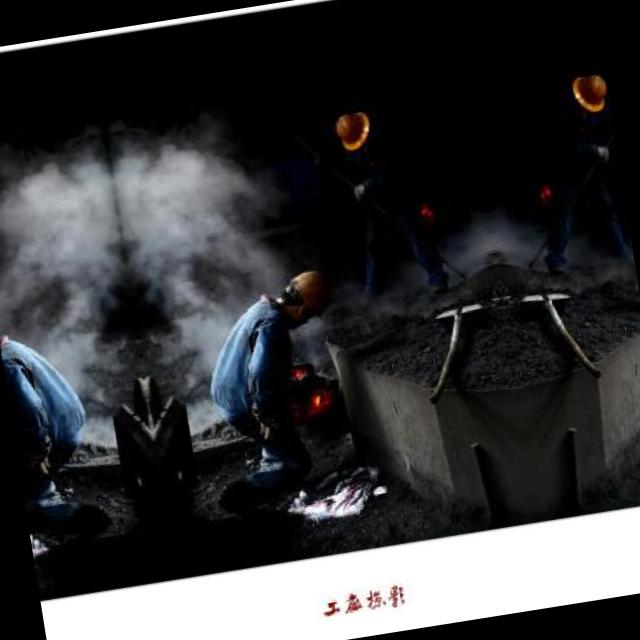helmet: (272, 266, 340, 332), (332, 109, 374, 159), (570, 71, 608, 122)
